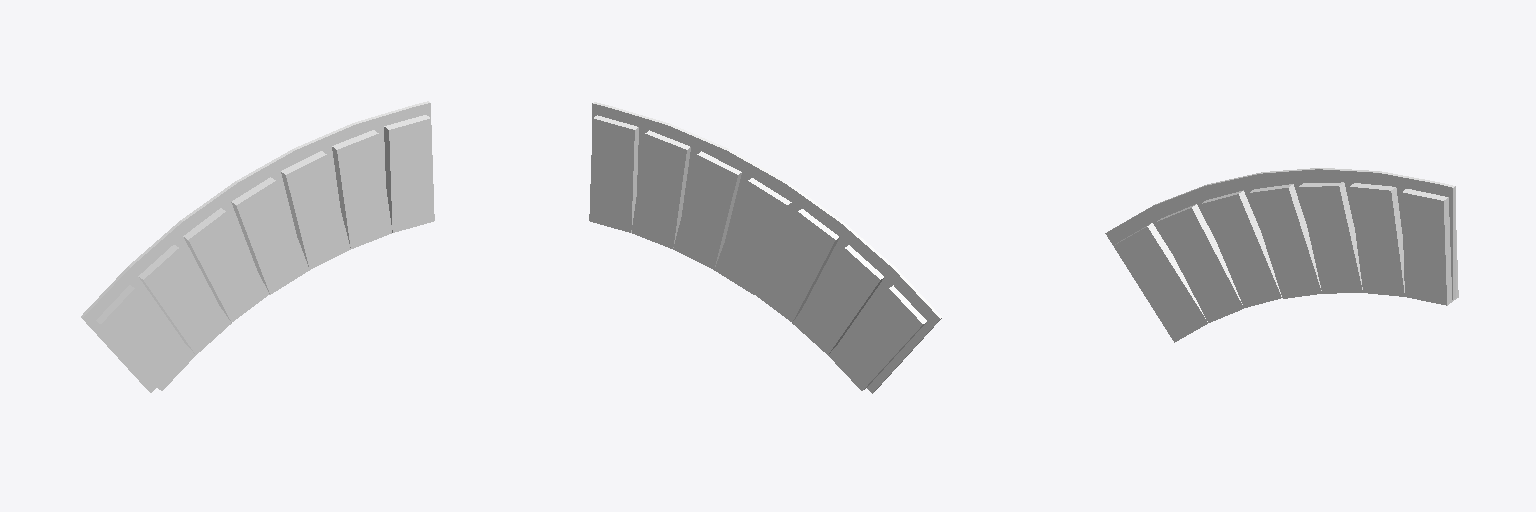
The model's file is lime_mortar_orange_clay_brick_facade_segmental_arch_2_left_bottom.obj.
The picture shows the model from 3 angles: view 1: azimuth 30°, elevation 25°; view 2: azimuth 150°, elevation 25°; view 3: azimuth 330°, elevation 25°; orthographic projection.
Visible parts, largest first — view 1: brick.012, brick.011, brick.010, brick.008, brick.006, brick.009, brick.007, cube.116, cube.117, cube.118, cube.119, cube.120 (+1 smaller); view 2: brick.012, brick.011, brick.010, brick.008, brick.006, brick.009, brick.007, cube.116, cube.117, cube.118, cube.119, cube.120 (+1 smaller); view 3: brick.012, brick.011, brick.006, brick.010, brick.008, brick.009, brick.007, cube.120, cube.119, cube.118, cube.122, cube.117 (+2 smaller).
Part boxes in pixels (left/top/right/bottom): brick.012: left=384, top=115, right=434, bottom=232; brick.011: left=332, top=130, right=391, bottom=248; brick.010: left=281, top=151, right=350, bottom=269; brick.008: left=231, top=177, right=309, bottom=294; brick.006: left=96, top=285, right=195, bottom=390; brick.009: left=183, top=208, right=269, bottom=322; brick.007: left=138, top=245, right=231, bottom=354; cube.116: left=81, top=266, right=183, bottom=392; cube.117: left=129, top=221, right=217, bottom=302; cube.118: left=180, top=181, right=256, bottom=268; cube.119: left=236, top=149, right=299, bottom=234; cube.120: left=294, top=123, right=357, bottom=208; brick.012: left=589, top=115, right=638, bottom=232; brick.011: left=632, top=130, right=690, bottom=248; brick.010: left=673, top=151, right=741, bottom=269; brick.008: left=714, top=178, right=791, bottom=294; brick.006: left=828, top=285, right=926, bottom=390; brick.009: left=754, top=209, right=839, bottom=322; brick.007: left=792, top=245, right=883, bottom=354; cube.116: left=848, top=267, right=942, bottom=393; cube.117: left=802, top=221, right=894, bottom=343; cube.118: left=765, top=182, right=841, bottom=272; cube.119: left=723, top=149, right=786, bottom=239; cube.120: left=666, top=123, right=728, bottom=212; brick.012: left=1402, top=189, right=1458, bottom=305; brick.011: left=1350, top=183, right=1404, bottom=296; brick.006: left=1114, top=223, right=1207, bottom=342; brick.010: left=1298, top=182, right=1362, bottom=293; brick.008: left=1249, top=184, right=1321, bottom=298; brick.009: left=1201, top=190, right=1281, bottom=307; brick.007: left=1156, top=204, right=1244, bottom=322; cube.120: left=1319, top=168, right=1379, bottom=226; cube.119: left=1261, top=168, right=1321, bottom=223; cube.118: left=1205, top=172, right=1265, bottom=227; cube.122: left=1379, top=171, right=1439, bottom=233; cube.117: left=1153, top=185, right=1214, bottom=237.
Size of the model in its own units: 1.29 by 0.7873 by 0.0741.